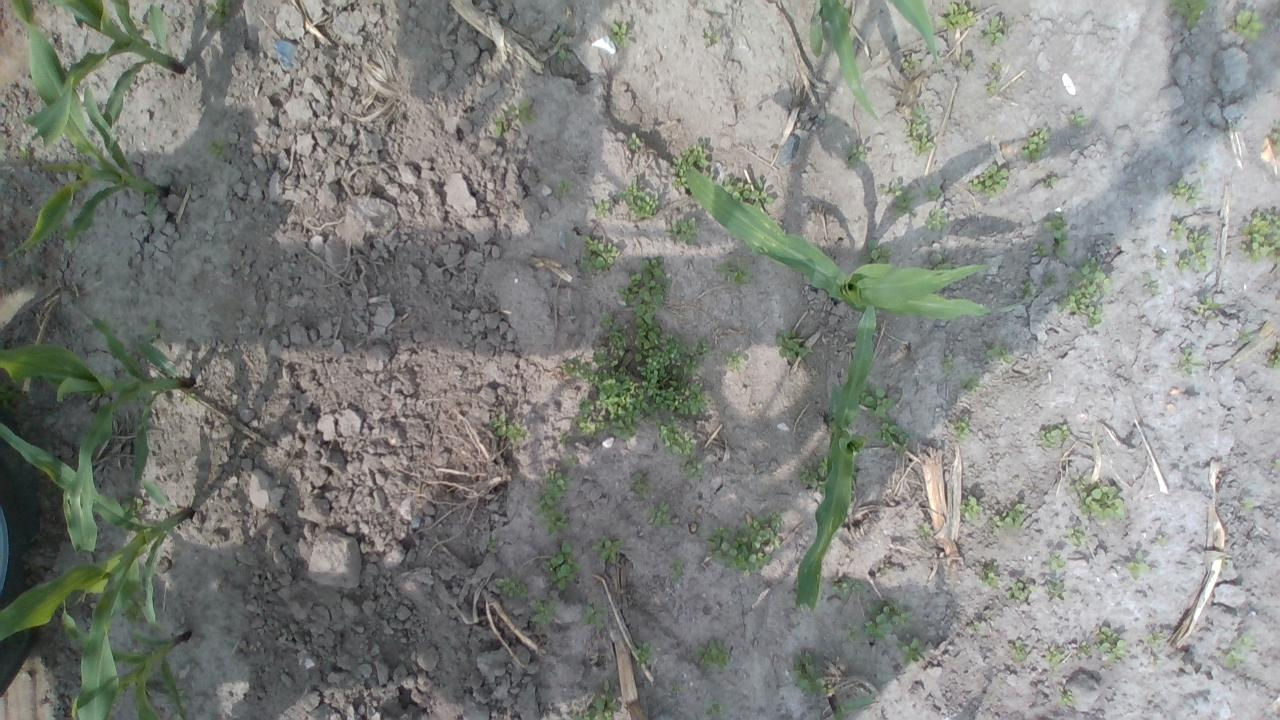Maize: (0, 418, 191, 720), (684, 168, 1020, 318), (0, 313, 189, 558), (0, 2, 170, 257), (794, 302, 876, 612), (26, 0, 184, 150), (56, 594, 192, 720), (806, 0, 936, 124), (815, 686, 880, 720)
Weeds: (576, 312, 714, 441), (706, 510, 786, 576), (1058, 256, 1114, 329), (615, 257, 673, 307), (1070, 478, 1127, 523), (537, 470, 570, 537), (864, 596, 914, 640), (1239, 210, 1280, 263), (791, 650, 838, 696), (544, 542, 582, 594), (722, 176, 773, 210), (576, 679, 616, 720), (578, 236, 621, 274), (906, 105, 936, 158), (656, 416, 696, 454), (617, 183, 659, 218), (876, 181, 914, 219), (968, 164, 1011, 197), (874, 420, 910, 458), (935, 1, 977, 33), (692, 639, 732, 672), (490, 414, 532, 444), (1169, 0, 1211, 30), (773, 328, 810, 362), (1095, 626, 1126, 666), (1044, 214, 1072, 258), (858, 384, 894, 417), (712, 262, 757, 288), (991, 503, 1024, 538), (1020, 126, 1050, 164), (1232, 7, 1264, 42), (1186, 232, 1212, 274), (592, 534, 626, 566), (860, 236, 896, 266), (554, 356, 592, 384), (897, 638, 928, 670), (667, 216, 699, 245), (529, 598, 559, 628), (1123, 549, 1151, 581), (1168, 178, 1202, 204), (1038, 422, 1070, 449), (116, 488, 144, 518), (645, 502, 674, 530), (980, 14, 1006, 45), (494, 576, 529, 599), (831, 576, 864, 600), (509, 98, 536, 127), (578, 604, 610, 628), (629, 640, 659, 665), (682, 142, 708, 170), (958, 494, 984, 521), (206, 0, 234, 25), (1216, 646, 1246, 669), (670, 156, 690, 190), (606, 22, 632, 48), (628, 470, 650, 500), (206, 128, 227, 159), (986, 342, 1013, 366), (1180, 352, 1206, 376), (122, 598, 144, 626), (1192, 296, 1224, 314), (1008, 581, 1036, 601), (724, 348, 750, 369), (1060, 526, 1088, 545), (948, 418, 972, 440), (981, 561, 1000, 588), (1008, 638, 1028, 663), (926, 251, 951, 271), (704, 698, 730, 716), (553, 179, 575, 200), (928, 210, 949, 232), (683, 461, 706, 480), (959, 373, 980, 393), (1139, 275, 1159, 295), (1045, 646, 1063, 668), (1030, 240, 1050, 259), (591, 200, 611, 219), (848, 146, 868, 165), (670, 559, 685, 584), (494, 112, 508, 138), (846, 622, 864, 642), (1043, 554, 1065, 570), (625, 131, 641, 153), (941, 352, 955, 376), (900, 56, 921, 72), (925, 184, 942, 203), (798, 467, 816, 484), (144, 318, 162, 335), (1071, 110, 1089, 127), (1169, 221, 1185, 240), (1143, 632, 1164, 646), (984, 78, 998, 99), (484, 534, 500, 552), (556, 430, 574, 446), (816, 457, 829, 478), (1021, 280, 1036, 298), (1058, 688, 1073, 706), (1045, 582, 1064, 596), (702, 30, 721, 44), (1042, 270, 1056, 288), (558, 46, 575, 60), (959, 55, 974, 70), (1240, 497, 1258, 509), (18, 142, 30, 160), (917, 522, 931, 537), (1268, 351, 1280, 368), (878, 562, 892, 576), (1044, 174, 1058, 188), (562, 454, 577, 467), (86, 592, 98, 608), (1177, 258, 1190, 272), (1079, 642, 1090, 658), (816, 480, 826, 497), (1238, 635, 1252, 647), (1271, 130, 1280, 148), (1238, 330, 1250, 342), (550, 30, 562, 42), (1157, 255, 1167, 268), (1156, 534, 1168, 544), (670, 682, 679, 691), (1152, 658, 1162, 666), (970, 623, 981, 630), (187, 393, 195, 402), (990, 62, 1000, 68)
